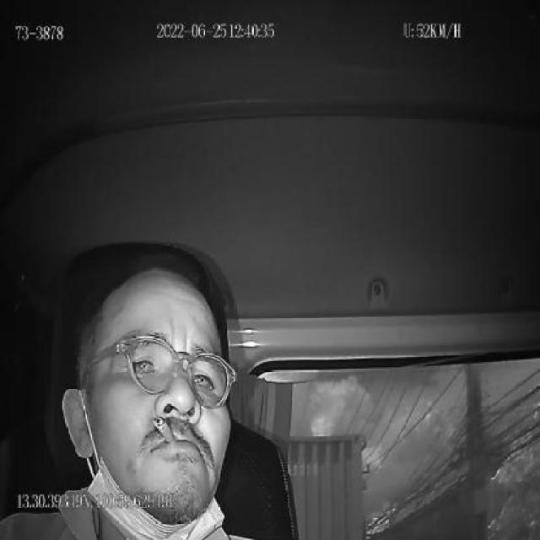smoking: (150, 413, 176, 443)
